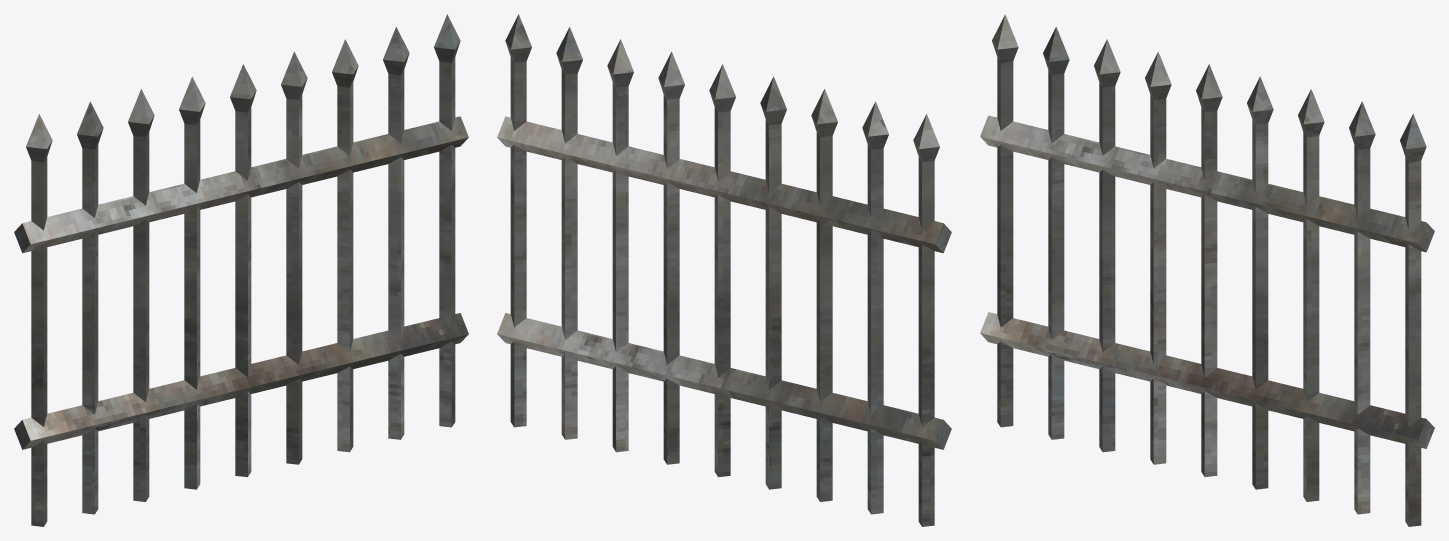
File: LowPoly_Tomedelic_MetalFence.fbx
The picture shows the model from 3 angles, left to right: view 1: azimuth 30°, elevation 25°; view 2: azimuth 150°, elevation 25°; view 3: azimuth 330°, elevation 25°; orthographic projection.
Parts seen in each view (by area): view 1: Cylinder; view 2: Cylinder; view 3: Cylinder.
Boxes of the visible parts, x1,y1,x2,y2 form: Cylinder: (14,14,468,526); Cylinder: (497,14,951,526); Cylinder: (980,14,1434,526).
Size of the model in its own units: 214 by 192 by 14.1.
1 material, 1 textured.
